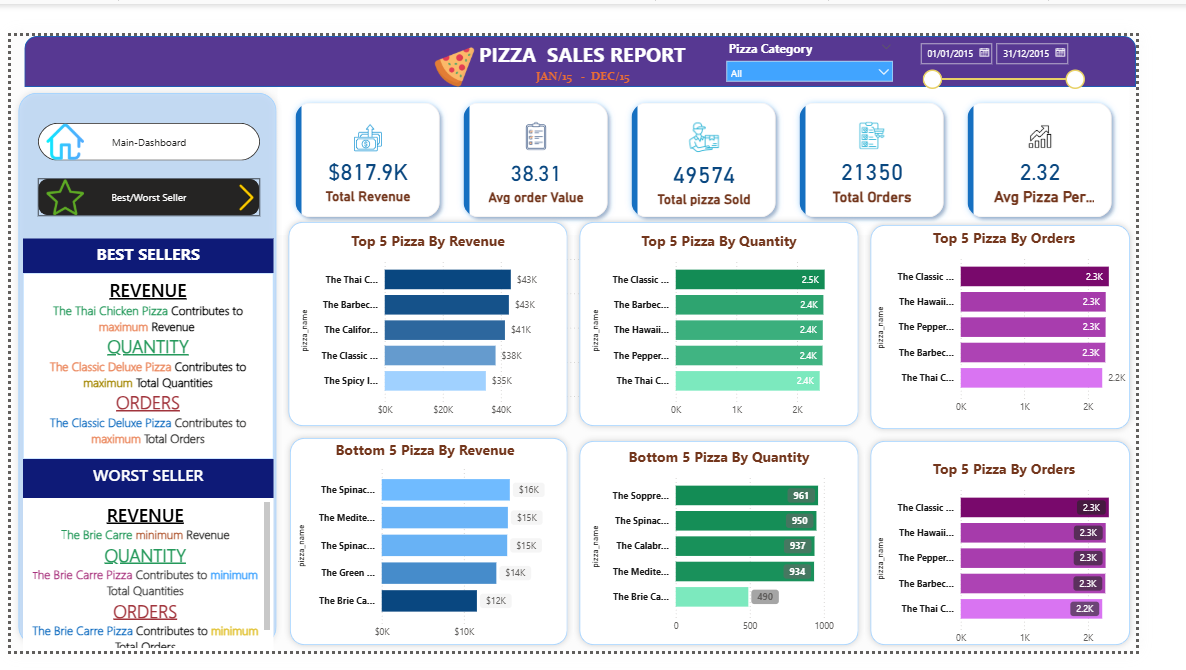

Layout of this report page (visuals, bound fields, positions):
{"tool":"powerbi","page":{"name":"Best/Worst Seller","canvas":[1500,820],"ordinal":1},"visuals":[{"type":"cardVisual","fields":{"Data":["pizza_sales.Total Revenue","pizza_sales.Avg order Value","pizza_sales.Total pizza Sold","pizza_sales.Total Orders","pizza_sales.Avg Pizza Per Order"]},"box":[350,60,1150,210],"z":0},{"type":"shape","box":[18,0,1482,68],"z":1000},{"type":"textbox","box":[598,0,327.5,51],"z":2000},{"type":"textbox","box":[684.3,37.3,156.9,49],"z":3000},{"type":"image","box":[558.8,13.7,66.7,54.9],"z":4000},{"type":"columnChart","title":"Daily Trend for Total Orders","fields":{"Category":["pizza_sales.Order Day"],"Y":["pizza_sales.Total Orders"]},"box":[376,254,388,256],"z":5000},{"type":"shape","box":[2,68,360,752],"z":6000},{"type":"textbox","box":[16,270,334,46],"z":7000},{"type":"textbox","box":[16,316,334,248],"z":8000},{"type":"textbox","box":[16,564,334,52],"z":9000},{"type":"textbox","box":[16,616,334,204],"z":10000},{"type":"slicer","fields":{"Values":["pizza_sales.pizza_category"]},"box":[944,0,242,82],"z":11000},{"type":"slicer","fields":{"Values":["pizza_sales.order_date"]},"box":[1200,0,240,88],"z":12000},{"type":"shape","box":[362,240,388,288],"z":13000},{"type":"shape","box":[364,528,386,292],"z":14000},{"type":"shape","box":[750,240,388,288],"z":15000},{"type":"shape","box":[750,532,388,288],"z":16000},{"type":"shape","box":[1138,244,362,288],"z":17000},{"type":"shape","box":[1138,532,362,288],"z":18000},{"type":"barChart","title":"Top 5 Pizza By Revenue","fields":{"Category":["pizza_sales.pizza_name"],"Y":["pizza_sales.Total Revenue"]},"box":[380,260,352,256],"z":19000},{"type":"barChart","title":"Bottom 5 Pizza By Revenue","fields":{"Category":["pizza_sales.pizza_name"],"Y":["pizza_sales.Total Revenue"]},"box":[376,538,352,274],"z":20000},{"type":"barChart","title":"Top 5 Pizza By Quantity ","fields":{"Category":["pizza_sales.pizza_name"],"Y":["pizza_sales.Total pizza Sold"]},"box":[768,260,352,256],"z":21000},{"type":"barChart","title":"Bottom 5 Pizza By Quantity ","fields":{"Category":["pizza_sales.pizza_name"],"Y":["pizza_sales.Total pizza Sold"]},"box":[768,548,352,256],"z":22000},{"type":"barChart","title":"Top 5 Pizza By Orders","fields":{"Category":["pizza_sales.pizza_name"],"Y":["pizza_sales.Total Orders"]},"box":[1148,256,352,256],"z":23000},{"type":"barChart","title":"Top 5 Pizza By Orders","fields":{"Category":["pizza_sales.pizza_name"],"Y":["pizza_sales.Total Orders"]},"box":[1148,564,352,256],"z":24000},{"type":"pageNavigator","box":[36,116,296,50],"z":25000},{"type":"pageNavigator","box":[36,190,296,50],"z":26000},{"type":"image","box":[296,190,36,50],"z":27000},{"type":"image","box":[36,116,72,50],"z":28000},{"type":"image","box":[36,190,72,50],"z":29000}]}

Visuals, with their boxes on the page's 1500x820 design canvas (x1, y1, x2, y2). These are canvas units, not pixel positions in the 1186x670 screenshot, which may show the page scaled, cropped or inside an application window:
cardVisual - pizza_sales.Total Revenue x pizza_sales.Avg order Value: {"x1": 350, "y1": 60, "x2": 1500, "y2": 270}
shape: {"x1": 18, "y1": 0, "x2": 1500, "y2": 68}
textbox: {"x1": 598, "y1": 0, "x2": 926, "y2": 51}
textbox: {"x1": 684, "y1": 37, "x2": 841, "y2": 86}
image: {"x1": 559, "y1": 14, "x2": 626, "y2": 69}
"Daily Trend for Total Orders" columnChart: {"x1": 376, "y1": 254, "x2": 764, "y2": 510}
shape: {"x1": 2, "y1": 68, "x2": 362, "y2": 820}
textbox: {"x1": 16, "y1": 270, "x2": 350, "y2": 316}
textbox: {"x1": 16, "y1": 316, "x2": 350, "y2": 564}
textbox: {"x1": 16, "y1": 564, "x2": 350, "y2": 616}
textbox: {"x1": 16, "y1": 616, "x2": 350, "y2": 820}
slicer - pizza_sales.pizza_category: {"x1": 944, "y1": 0, "x2": 1186, "y2": 82}
slicer - pizza_sales.order_date: {"x1": 1200, "y1": 0, "x2": 1440, "y2": 88}
shape: {"x1": 362, "y1": 240, "x2": 750, "y2": 528}
shape: {"x1": 364, "y1": 528, "x2": 750, "y2": 820}
shape: {"x1": 750, "y1": 240, "x2": 1138, "y2": 528}
shape: {"x1": 750, "y1": 532, "x2": 1138, "y2": 820}
shape: {"x1": 1138, "y1": 244, "x2": 1500, "y2": 532}
shape: {"x1": 1138, "y1": 532, "x2": 1500, "y2": 820}
"Top 5 Pizza By Revenue" barChart: {"x1": 380, "y1": 260, "x2": 732, "y2": 516}
"Bottom 5 Pizza By Revenue" barChart: {"x1": 376, "y1": 538, "x2": 728, "y2": 812}
"Top 5 Pizza By Quantity " barChart: {"x1": 768, "y1": 260, "x2": 1120, "y2": 516}
"Bottom 5 Pizza By Quantity " barChart: {"x1": 768, "y1": 548, "x2": 1120, "y2": 804}
"Top 5 Pizza By Orders" barChart: {"x1": 1148, "y1": 256, "x2": 1500, "y2": 512}
"Top 5 Pizza By Orders" barChart: {"x1": 1148, "y1": 564, "x2": 1500, "y2": 820}
pageNavigator: {"x1": 36, "y1": 116, "x2": 332, "y2": 166}
pageNavigator: {"x1": 36, "y1": 190, "x2": 332, "y2": 240}
image: {"x1": 296, "y1": 190, "x2": 332, "y2": 240}
image: {"x1": 36, "y1": 116, "x2": 108, "y2": 166}
image: {"x1": 36, "y1": 190, "x2": 108, "y2": 240}
